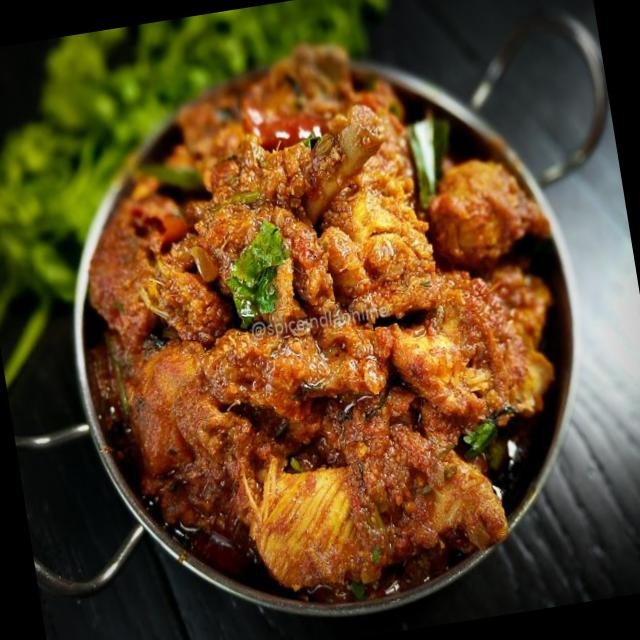chicken: (100, 88, 574, 630)
